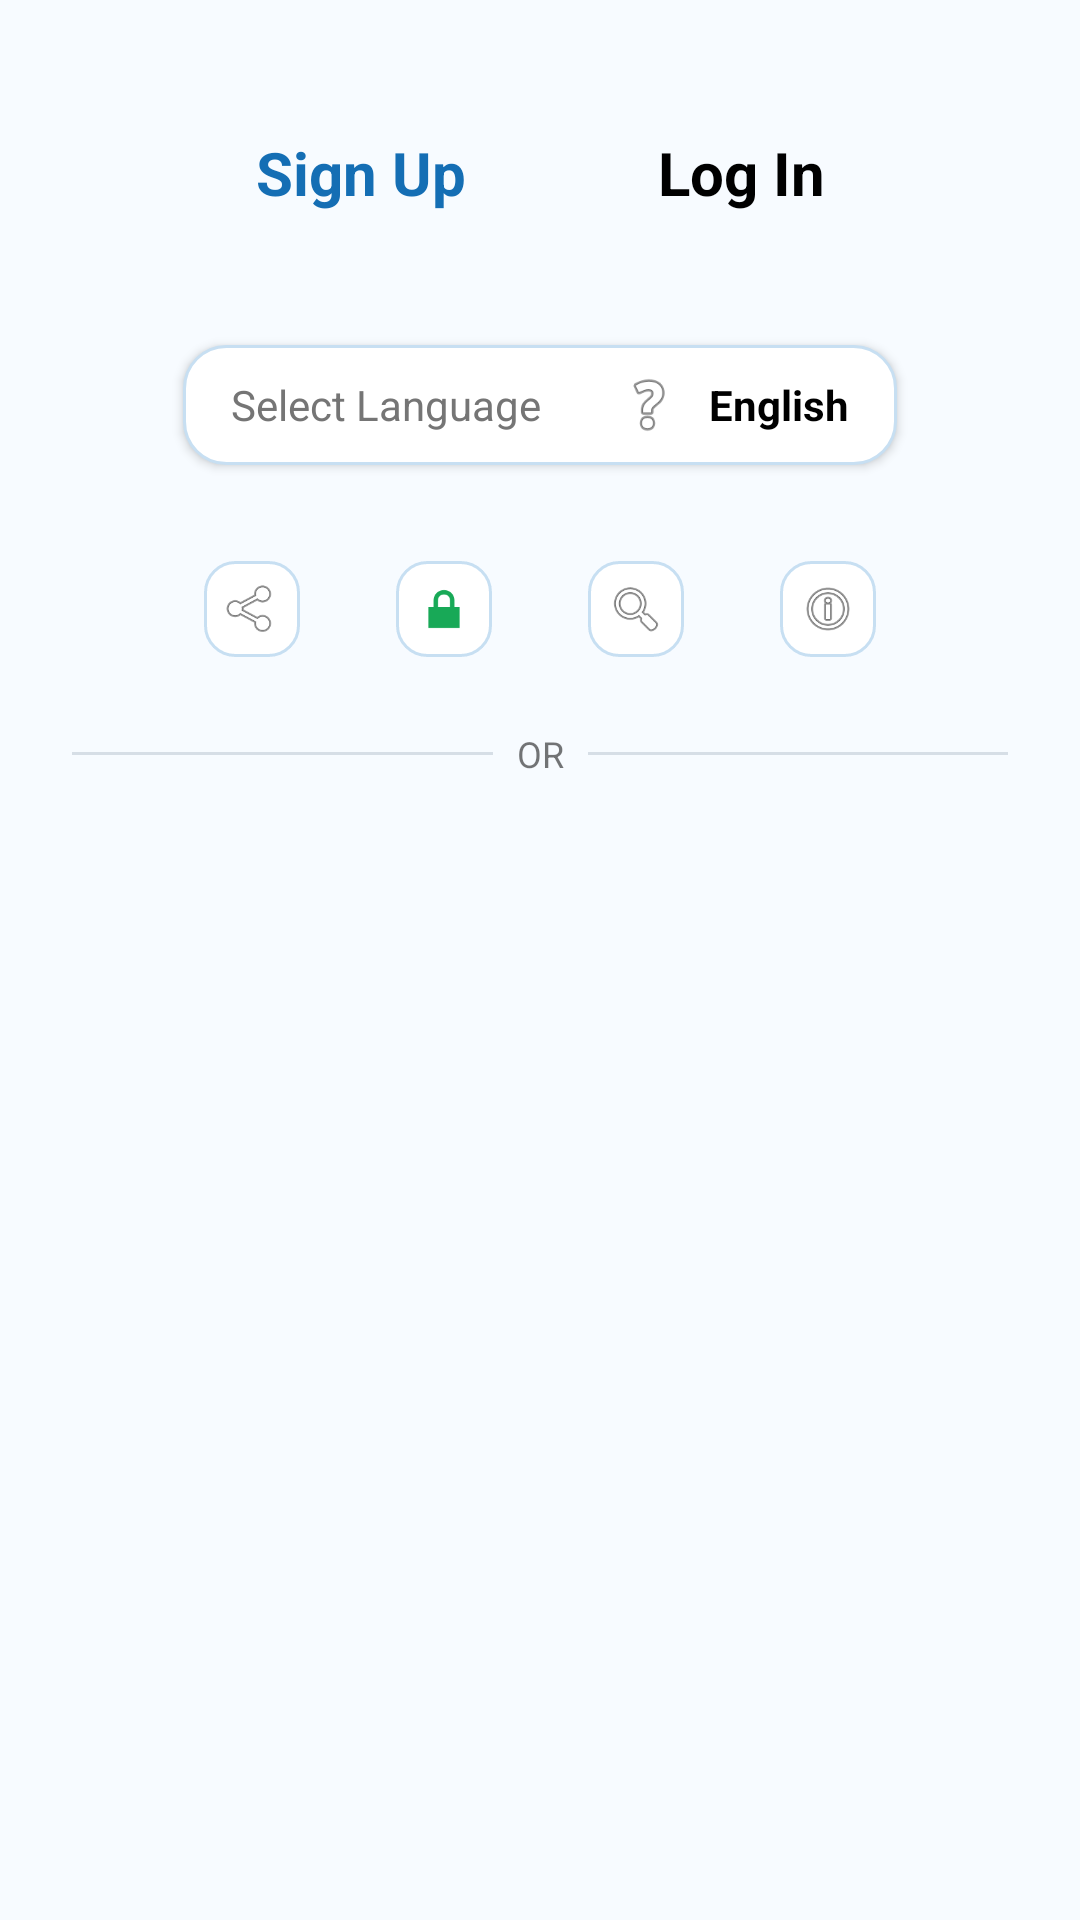

Where icons sit on this 1080*1920 app screen, as [left=x1, top=y1, right=x2, bottom=y2]:
help: [left=633, top=379, right=665, bottom=431]
info details: [left=780, top=561, right=876, bottom=657]
lock: [left=396, top=561, right=492, bottom=657]
search: [left=588, top=561, right=684, bottom=657]
share: [left=204, top=561, right=300, bottom=657]
